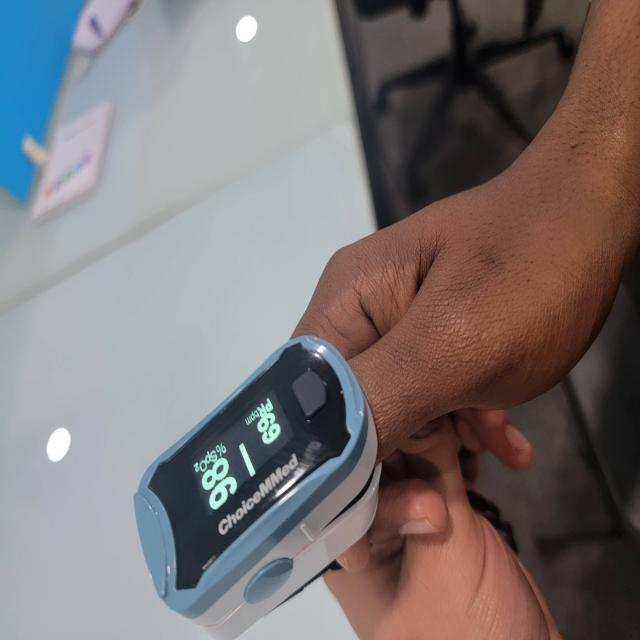spo2: (132, 337, 382, 640)
